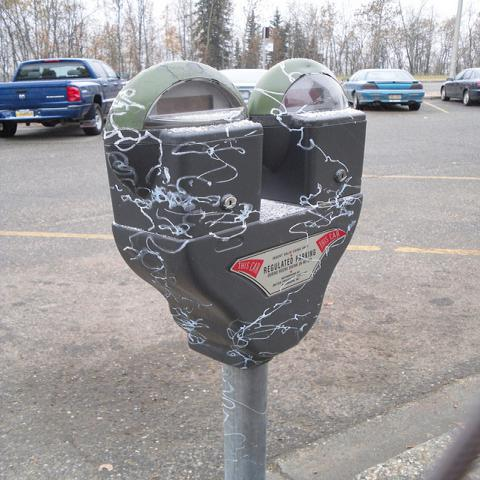car: (340, 69, 424, 111), (215, 67, 271, 107), (439, 67, 479, 105)
truck: (0, 58, 124, 137)
